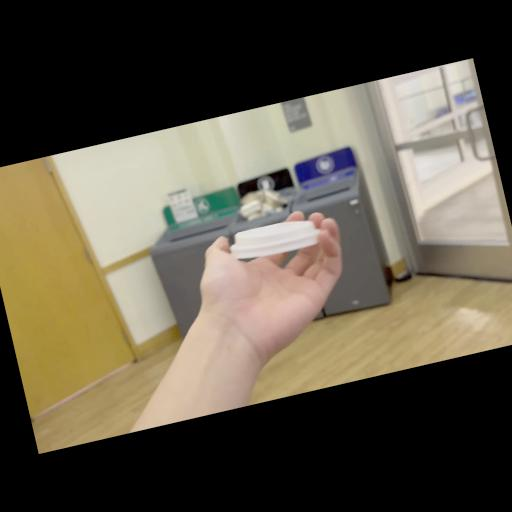lp_cup_lids: (220, 204, 330, 270)
